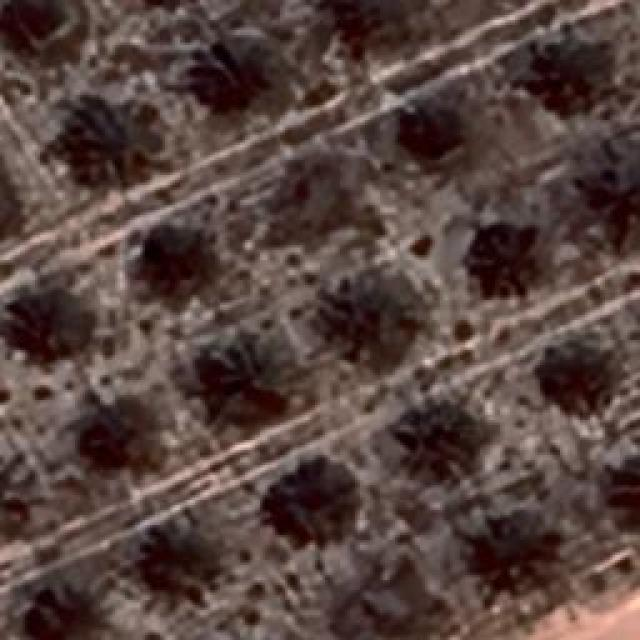PalmTree: (37, 25, 73, 612), (270, 455, 360, 550), (324, 275, 418, 365), (482, 512, 566, 602), (68, 96, 152, 184), (411, 406, 491, 489), (78, 400, 162, 478), (141, 516, 219, 599), (14, 284, 92, 362), (552, 328, 626, 406), (208, 345, 288, 415), (402, 94, 482, 162), (538, 42, 612, 112), (474, 222, 538, 300), (198, 40, 274, 105), (138, 228, 202, 296), (0, 452, 35, 540), (600, 175, 640, 250), (320, 0, 397, 33), (317, 0, 398, 27), (611, 448, 640, 522), (620, 448, 640, 518)
